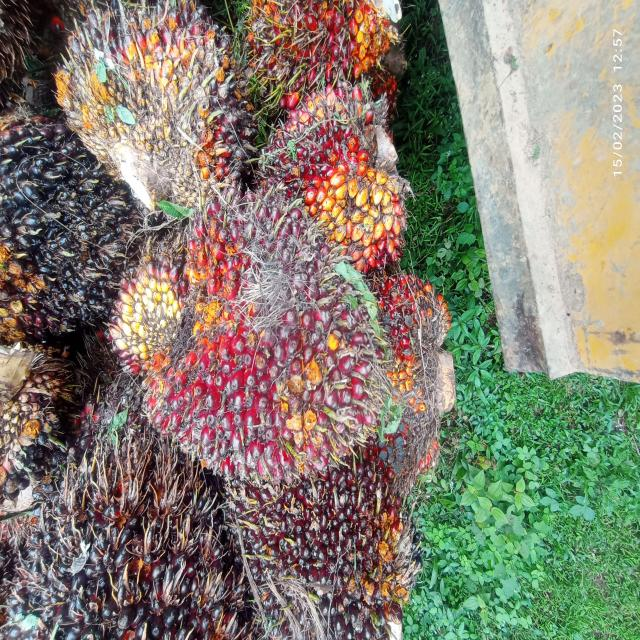fraksi 00: (44, 0, 271, 242), (8, 410, 226, 640), (0, 105, 142, 378), (234, 446, 425, 640)
fraksi 1: (128, 181, 403, 512), (262, 72, 416, 282)
